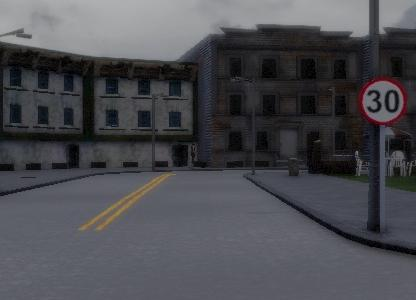Speed_30: (358, 79, 408, 127)
